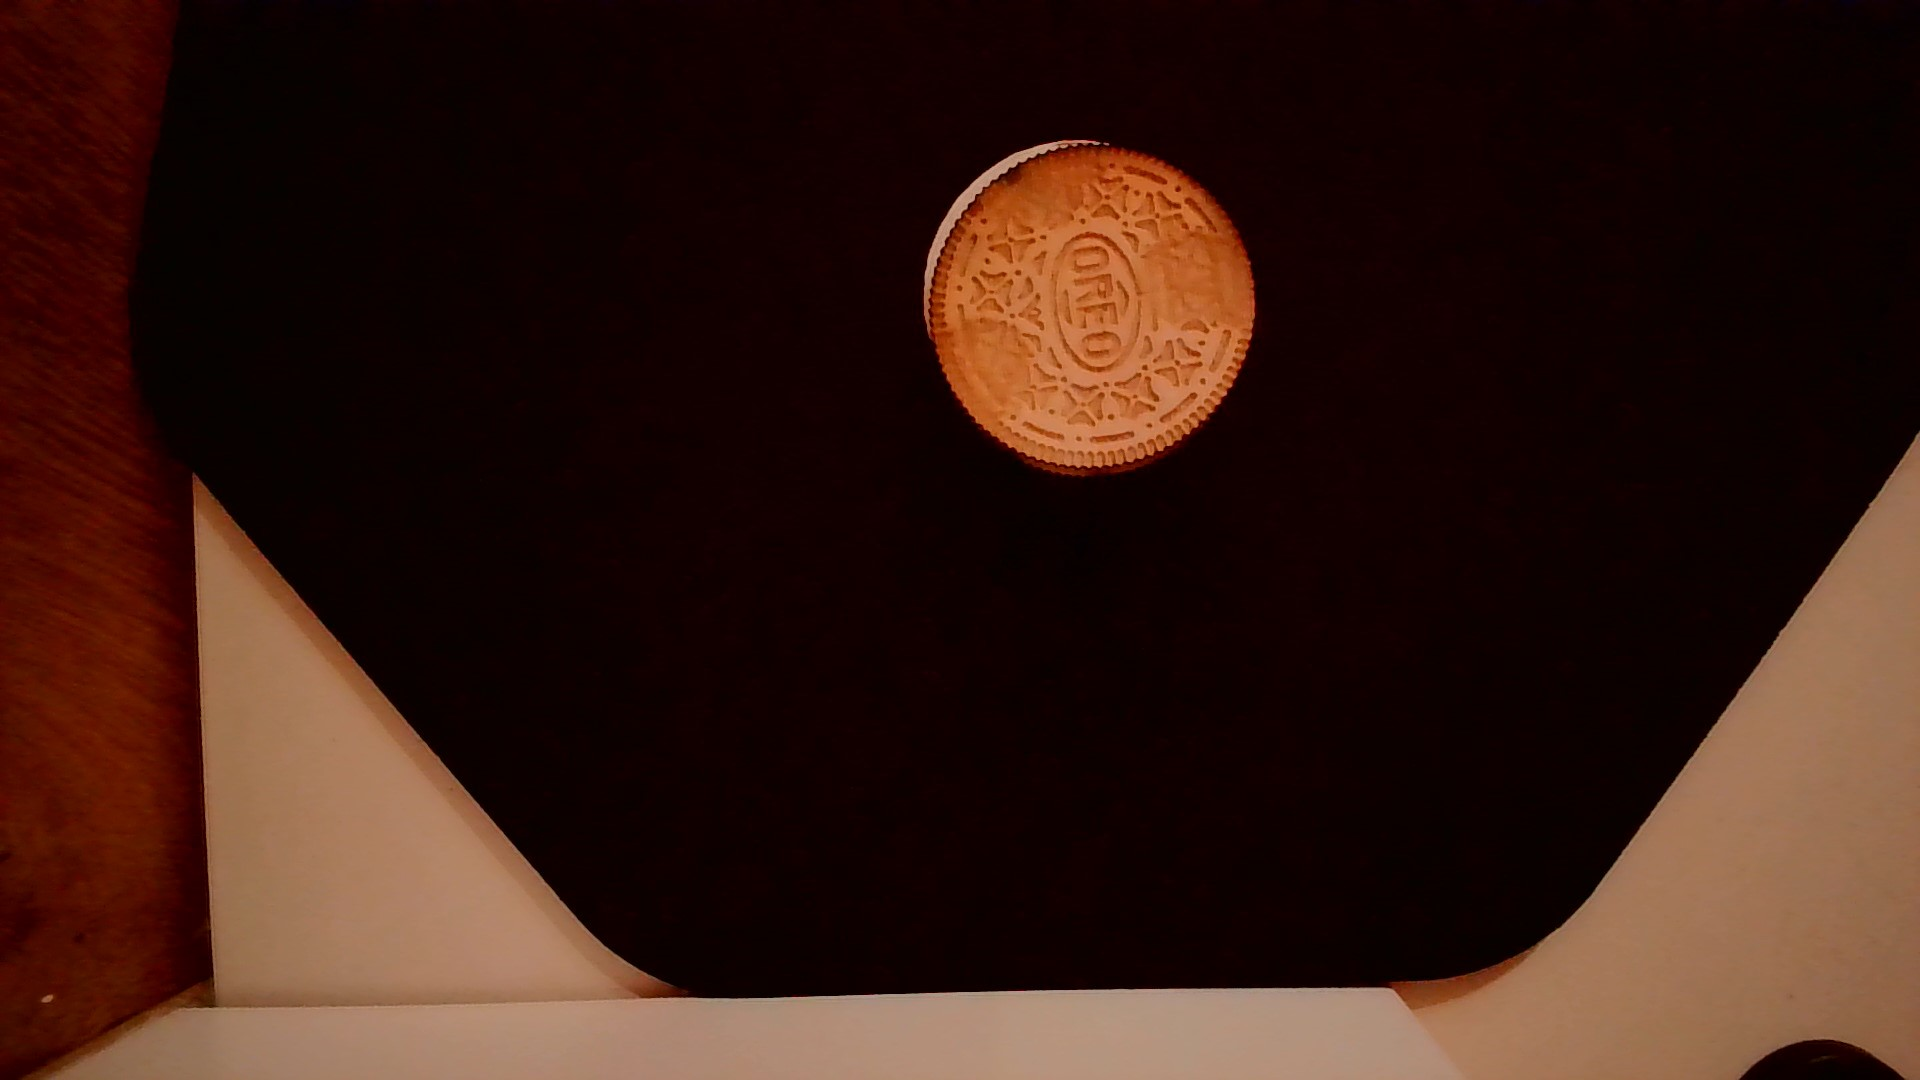Effacé: (940, 319, 1042, 413), (1153, 231, 1247, 328), (1007, 157, 1091, 241)
Mangé: (916, 135, 1101, 334)
Oréo: (916, 135, 1261, 481)
